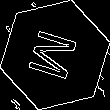M_E: (25, 26, 85, 84)
